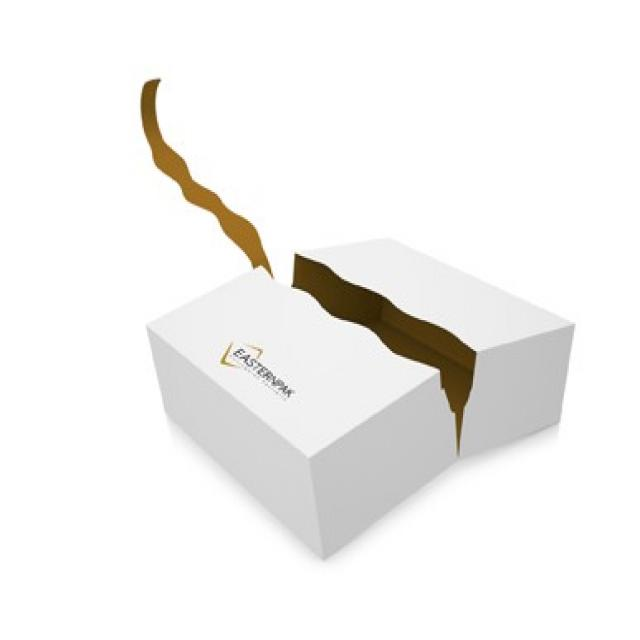tear: (197, 182, 477, 440)
